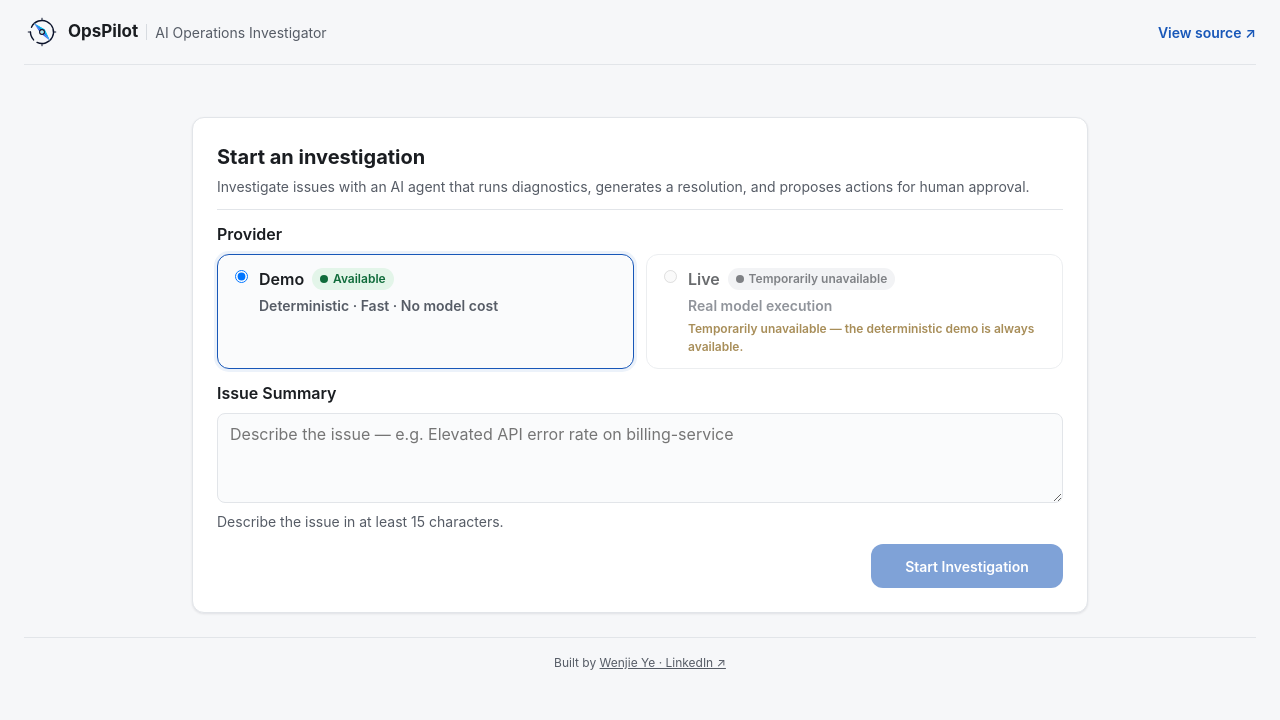
Test: Investigation progress timeline (#34/#35) › a job-creation failure shows the error and leaves no grounded progress timeline behind
This screenshot has width=1280, height=720.
Type "Elevated error rate" into the text box labelled "Issue Summary".
click(640, 458); type("Elevated error rate")  # box x1=217 y1=413 x2=1063 y2=503
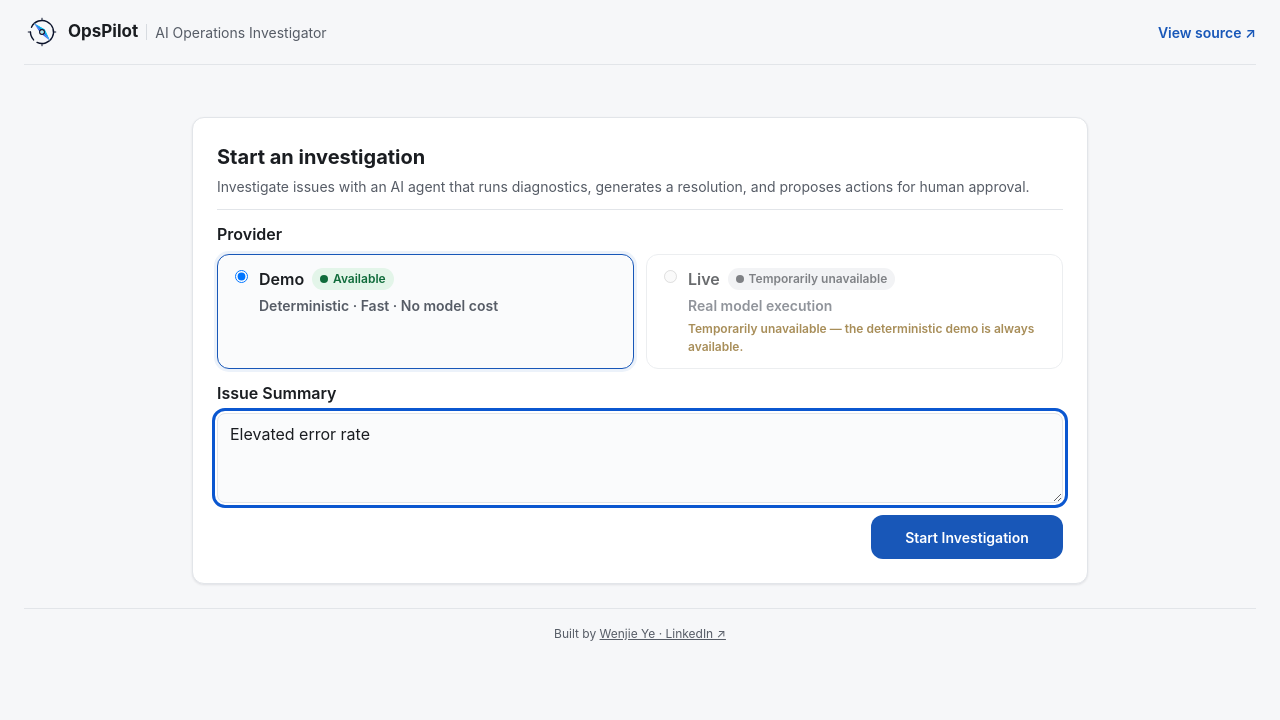
Click the button "Start Investigation".
click(967, 537)  # box x1=871 y1=515 x2=1063 y2=559
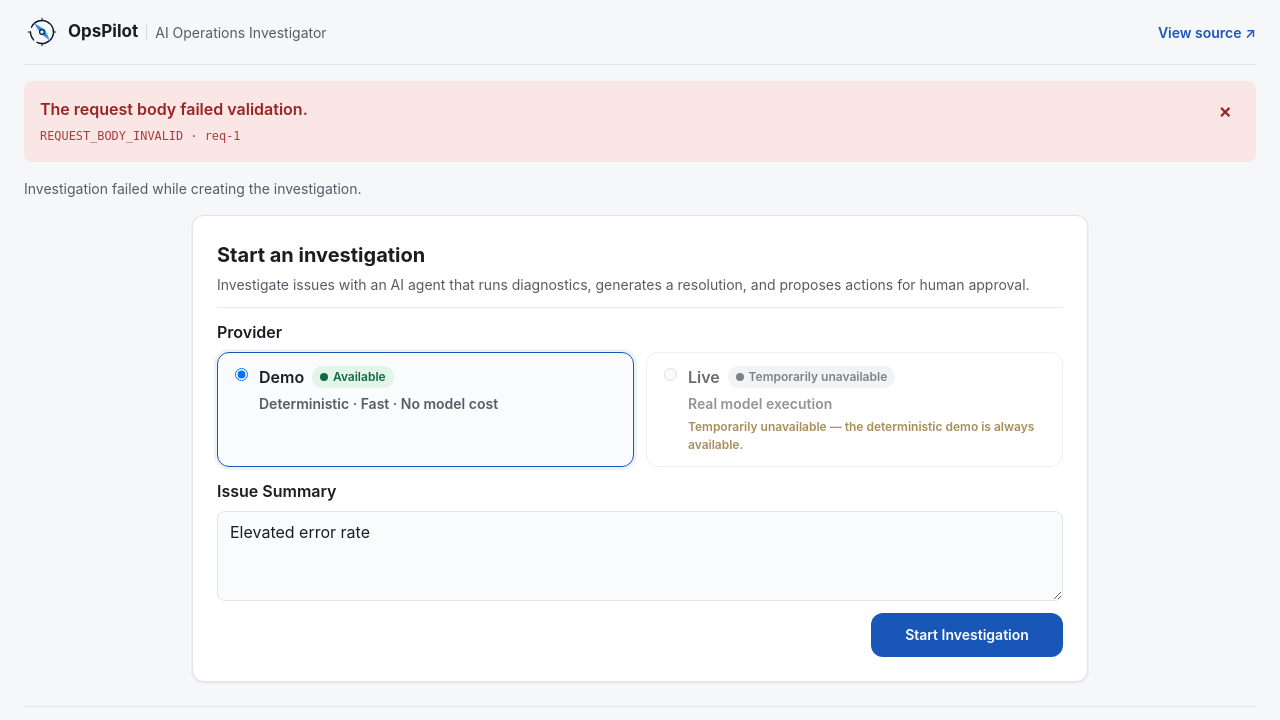
expect the button "Start Investigation" is enabled: met, box x1=871 y1=613 x2=1063 y2=657
expect the text "The request body failed validation." is shown: met, box x1=40 y1=97 x2=308 y2=121
